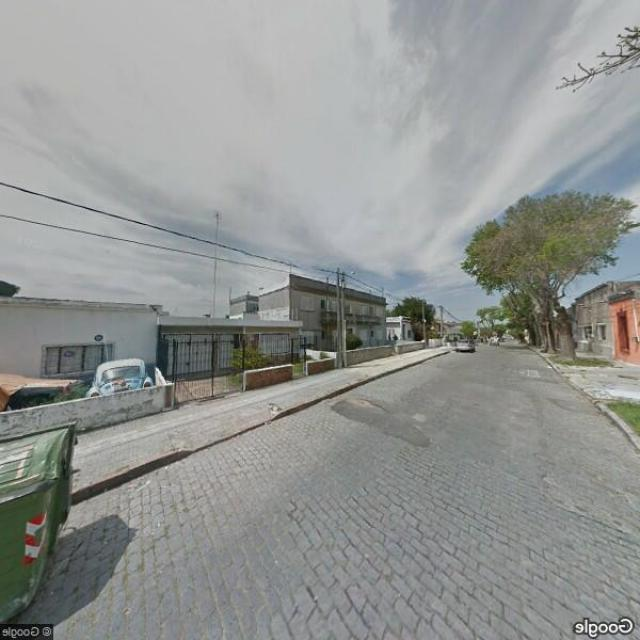garbage container: (0, 406, 91, 630)
